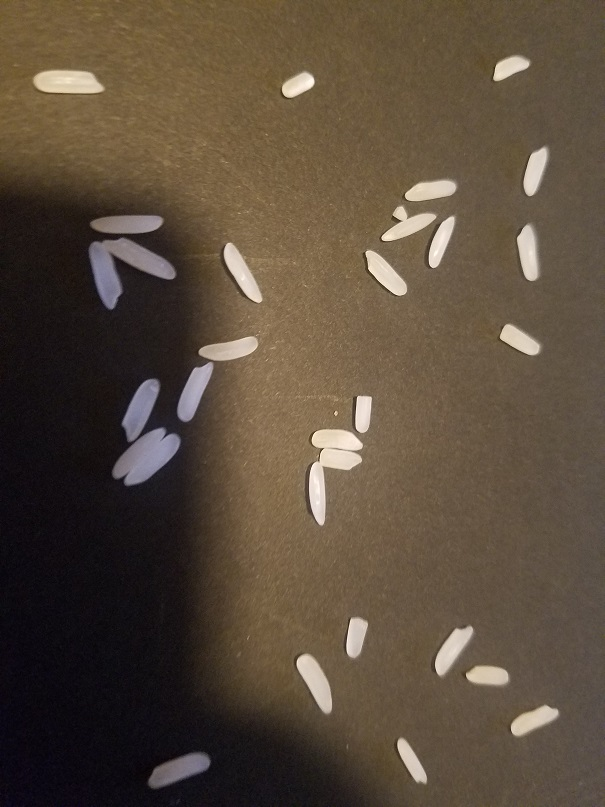egg: (97, 232, 177, 281), (107, 425, 167, 481), (122, 432, 184, 486), (85, 240, 125, 315), (120, 375, 163, 442), (220, 240, 262, 306), (294, 651, 334, 720), (173, 360, 216, 423), (358, 248, 410, 299), (430, 622, 475, 678), (147, 751, 212, 788), (30, 67, 107, 93), (424, 214, 458, 271), (378, 211, 436, 244), (514, 221, 544, 284), (506, 703, 561, 737), (195, 332, 257, 360), (494, 321, 542, 356), (519, 143, 550, 197), (84, 212, 163, 233), (394, 737, 429, 782), (401, 176, 458, 201), (305, 464, 327, 527), (342, 614, 368, 660), (316, 445, 363, 470), (310, 427, 361, 450), (490, 53, 529, 82), (278, 70, 317, 99), (467, 662, 511, 684), (353, 395, 374, 432), (391, 205, 407, 226)
